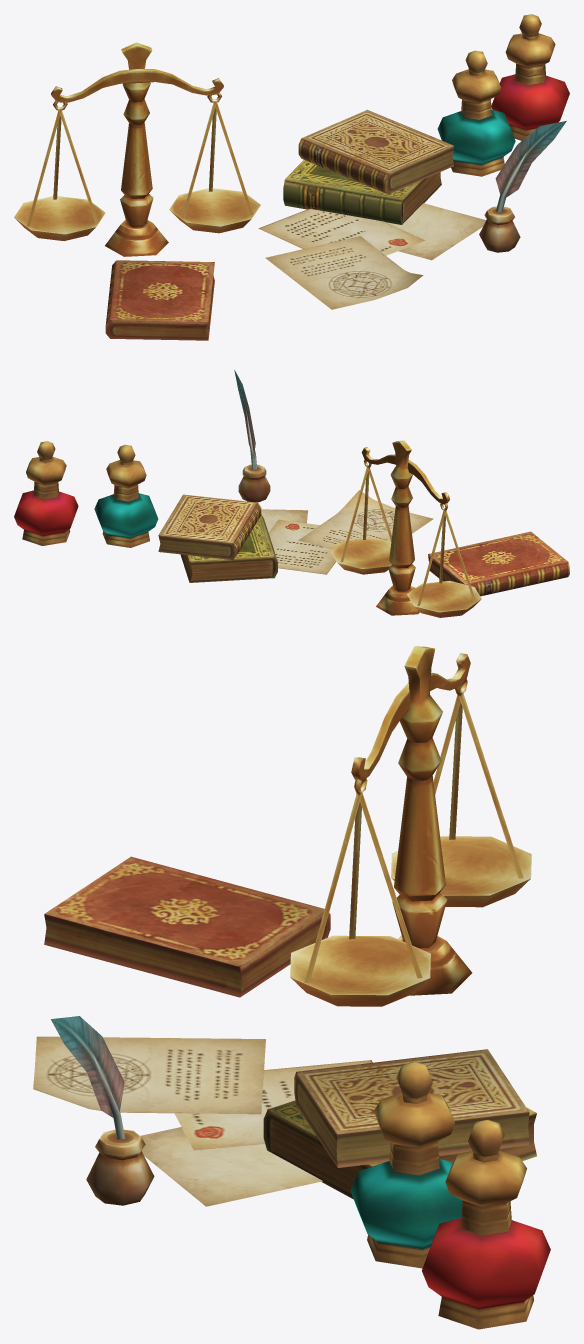
The model's file is Table_Preset_05.FBX.
3 renders of one model, top to bottom at view 1: azimuth 30°, elevation 25°; view 2: azimuth 150°, elevation 25°; view 3: azimuth 270°, elevation 25°, orthographic. The views are drawn at different scales.
Visible parts, largest first — view 1: Table_Preset_05; view 2: Table_Preset_05; view 3: Table_Preset_05.
Part boxes in pixels (left/top/right/bottom): Table_Preset_05: left=14, top=14, right=569, bottom=340; Table_Preset_05: left=14, top=370, right=569, bottom=617; Table_Preset_05: left=33, top=646, right=550, bottom=1329.
Bounding box in the file's own units: 162 × 77.86 × 55.01.
